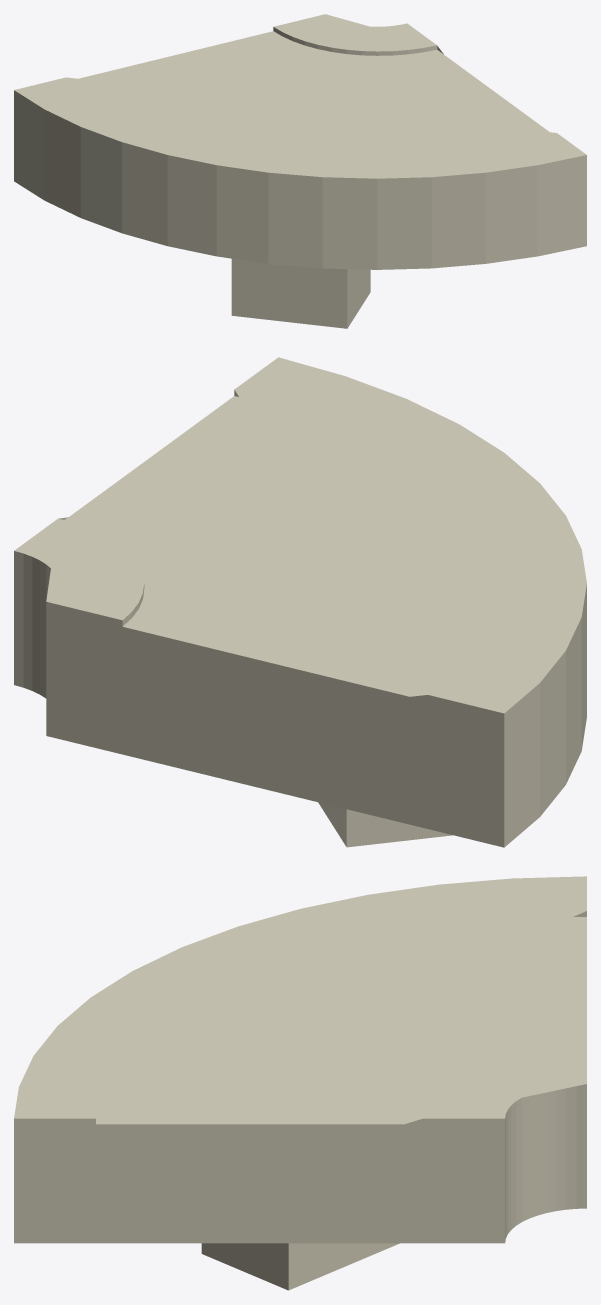
Rendered from roadtile_139.glb.
3 views of the same model, one above another, from view 1: azimuth 30°, elevation 25°; view 2: azimuth 150°, elevation 25°; view 3: azimuth 270°, elevation 25° (orthographic). The views are drawn at different scales.
Visible parts, largest first — view 1: Mesh1 Group1 Model; view 2: Mesh1 Group1 Model; view 3: Mesh1 Group1 Model.
Part boxes in pixels (x1,y1,x2,y2): Mesh1 Group1 Model: (14,14,586,328); Mesh1 Group1 Model: (14,357,586,847); Mesh1 Group1 Model: (14,876,586,1290).
Bounding box in the file's own units: 2.62 × 1.26 × 2.62.
